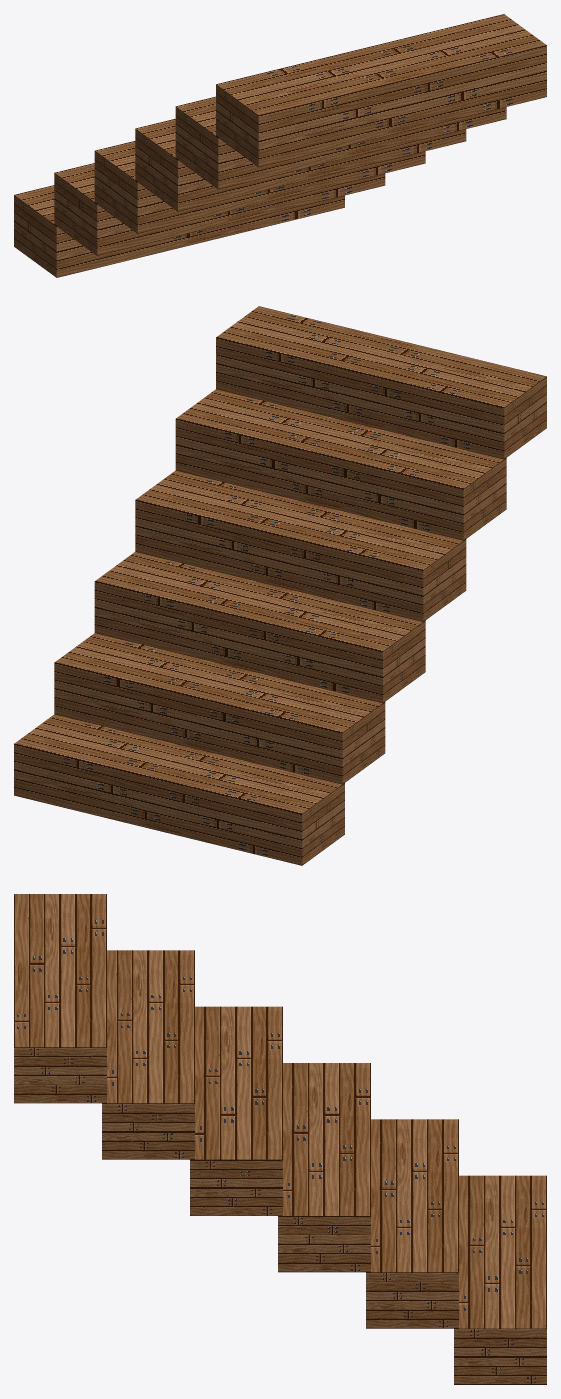
The model's file is escada_de_madeira.glb.
The picture shows the model from 3 angles, top to bottom: view 1: azimuth 30°, elevation 25°; view 2: azimuth 150°, elevation 25°; view 3: azimuth 270°, elevation 25°; orthographic projection. The views are drawn at different scales.
Visible parts, largest first — view 1: escada_de_madeira; view 2: escada_de_madeira; view 3: escada_de_madeira.
Part boxes in pixels (left/top/right/bottom): escada_de_madeira: left=14, top=14, right=546, bottom=277; escada_de_madeira: left=14, top=306, right=546, bottom=865; escada_de_madeira: left=14, top=894, right=546, bottom=1384.
Bounding box in the file's own units: 1.4 × 1.44 × 2.06.
1 material, 1 textured.
